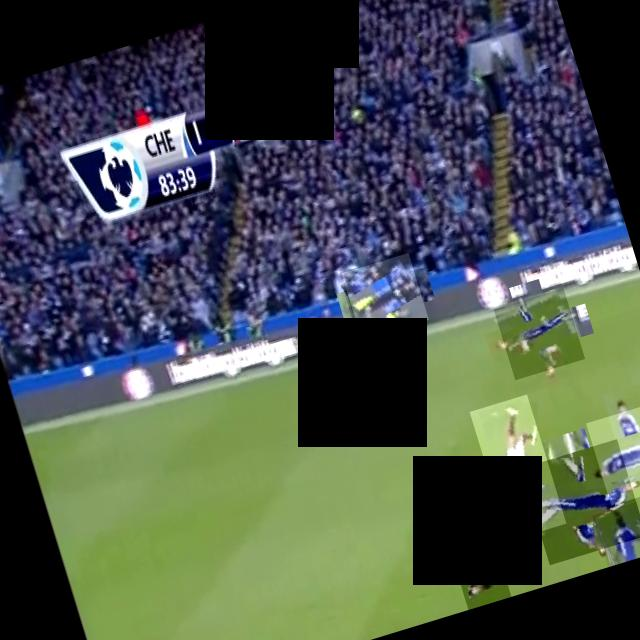referee: (340, 252, 427, 339)
soccer-player: (519, 438, 640, 564), (468, 393, 565, 540), (492, 287, 584, 379), (584, 396, 640, 504), (590, 501, 640, 567), (456, 558, 510, 610)
